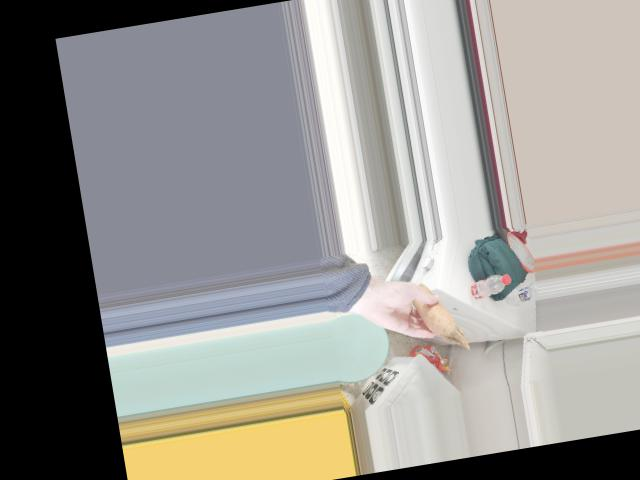sweet_potato: (405, 286, 457, 338)
